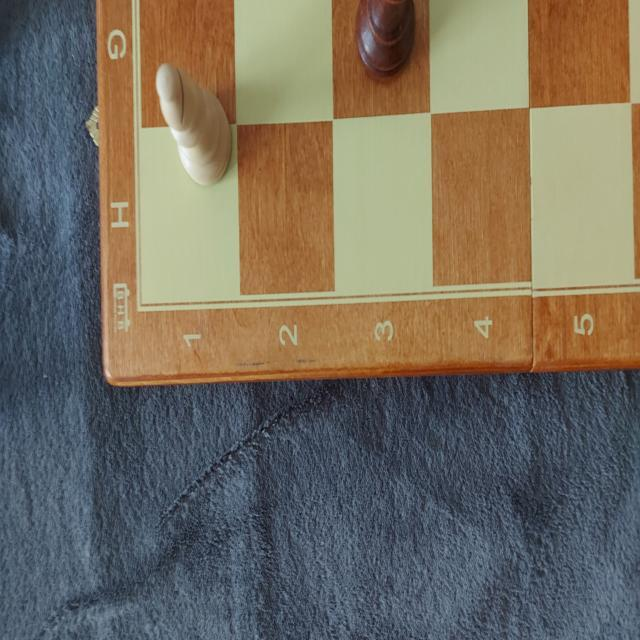chess-table-corners: (132, 274, 166, 328)
